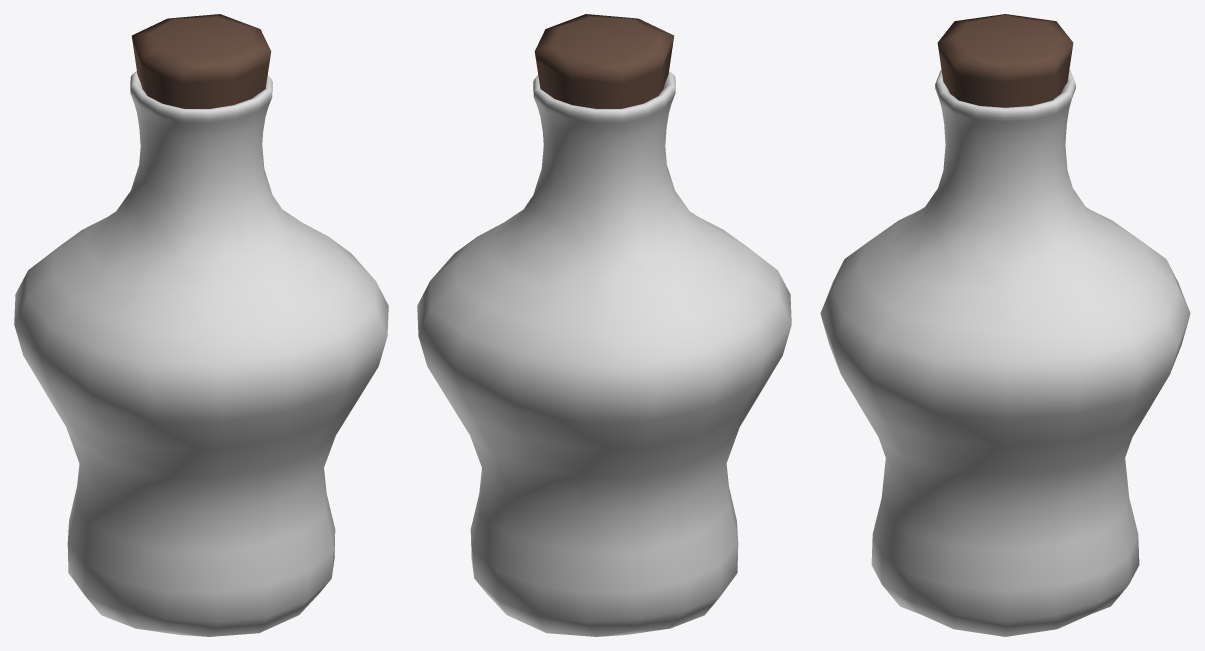
Rendered from Potion3_Filled.glb.
3 views of the same model, side by side, from view 1: azimuth 30°, elevation 25°; view 2: azimuth 150°, elevation 25°; view 3: azimuth 270°, elevation 25° (orthographic).
Parts seen in each view (by area): view 1: Potion3_Filled; view 2: Potion3_Filled; view 3: Potion3_Filled.
Part boxes in pixels (x1=…): Potion3_Filled: x1=14, y1=14, x2=388, y2=636; Potion3_Filled: x1=417, y1=14, x2=791, y2=636; Potion3_Filled: x1=820, y1=14, x2=1190, y2=636.
Bounding box in the file's own units: 0.7187 × 1.22 × 0.7187.
